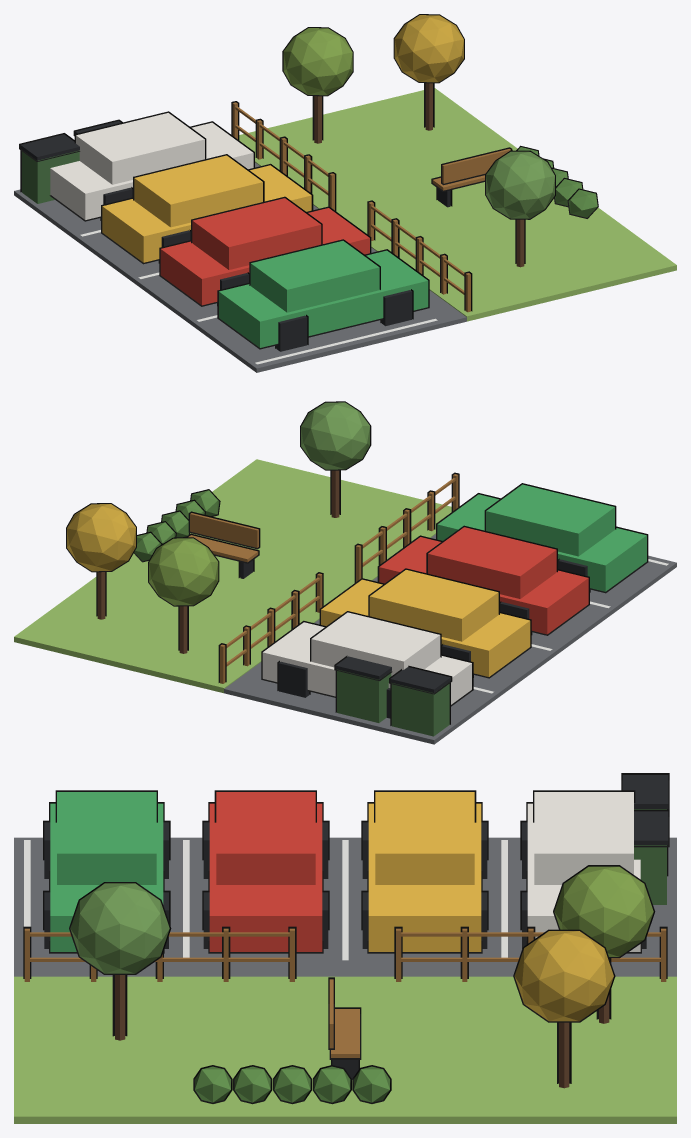
The model's file is Avlu_karma.fbx.
3 renders of one model, top to bottom at view 1: azimuth 30°, elevation 25°; view 2: azimuth 150°, elevation 25°; view 3: azimuth 270°, elevation 25°, orthographic. The views are drawn at different scales.
Visible parts, largest first — view 1: Avlu_karma; view 2: Avlu_karma; view 3: Avlu_karma.
Part boxes in pixels (x1,y1,x2,y2): Avlu_karma: (14,14,676,372); Avlu_karma: (14,401,676,744); Avlu_karma: (14,773,676,1123).
Bounding box in the file's own units: 10 × 2.68 × 10.
